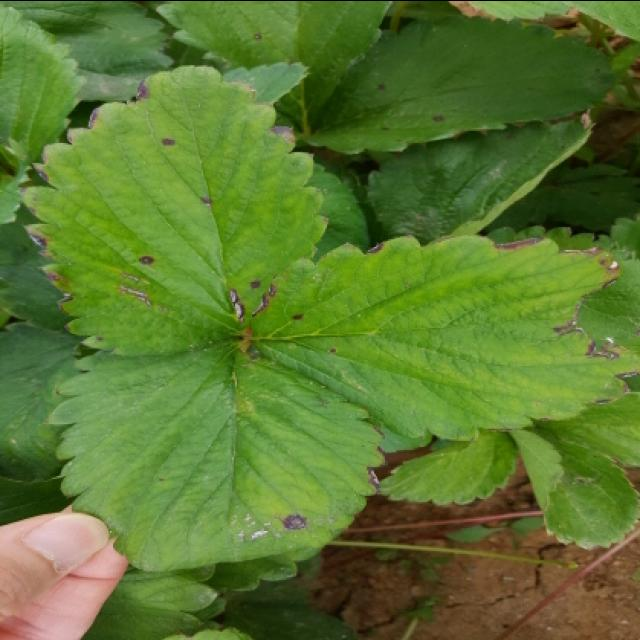Leaf Spot: (19, 64, 329, 358), (243, 232, 638, 452), (44, 338, 386, 572), (308, 14, 617, 156), (157, 2, 393, 136)
